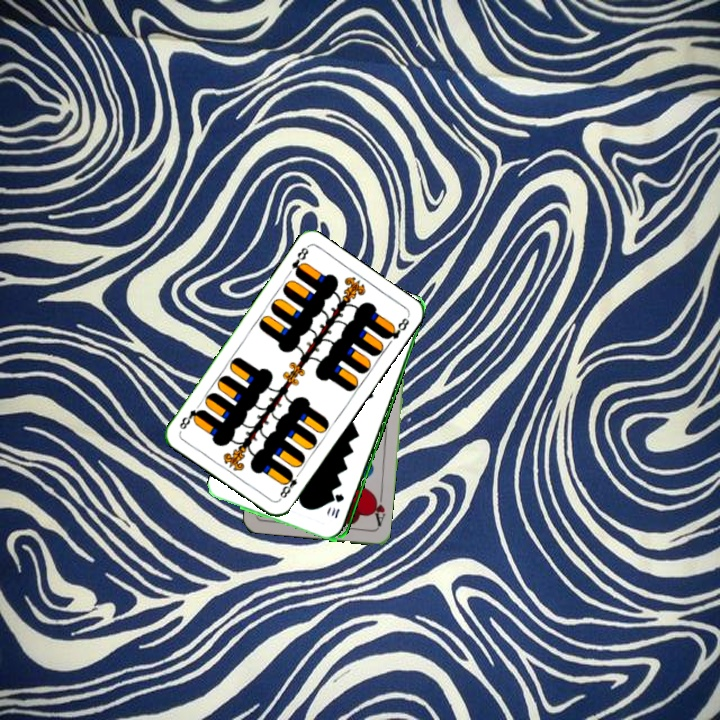E8: (275, 467, 303, 503), (287, 243, 311, 279)
G10: (330, 489, 347, 521)
HA: (368, 489, 388, 529)
